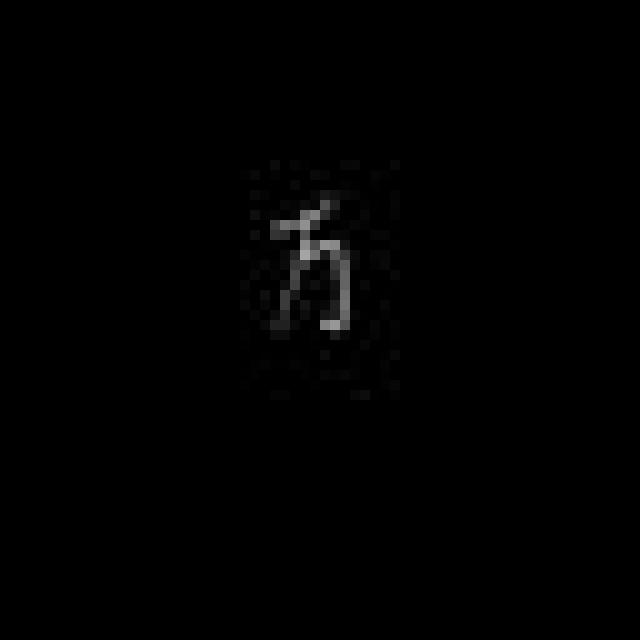10000 -a ten thousand-: (253, 188, 368, 354)
